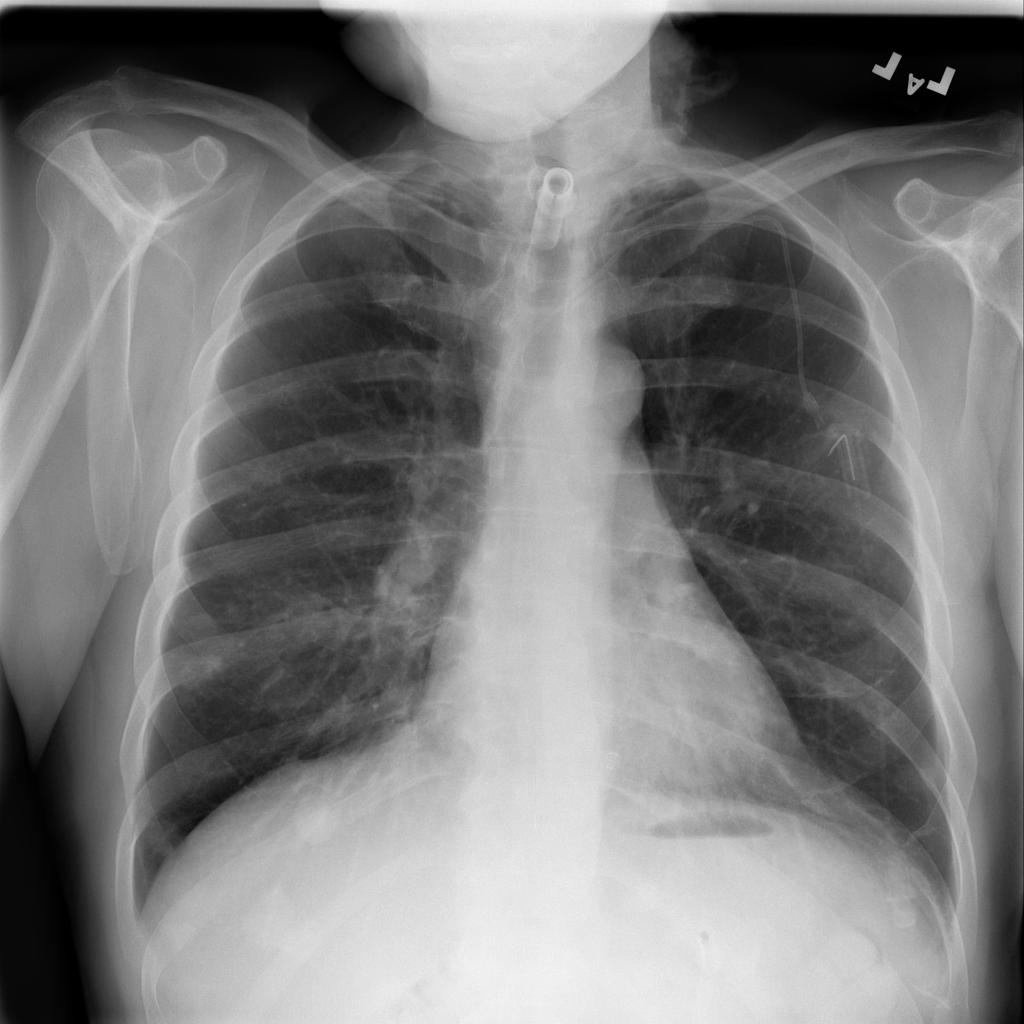nodule: (225, 862, 326, 976), (277, 776, 355, 855), (163, 637, 240, 709), (880, 741, 956, 810)
